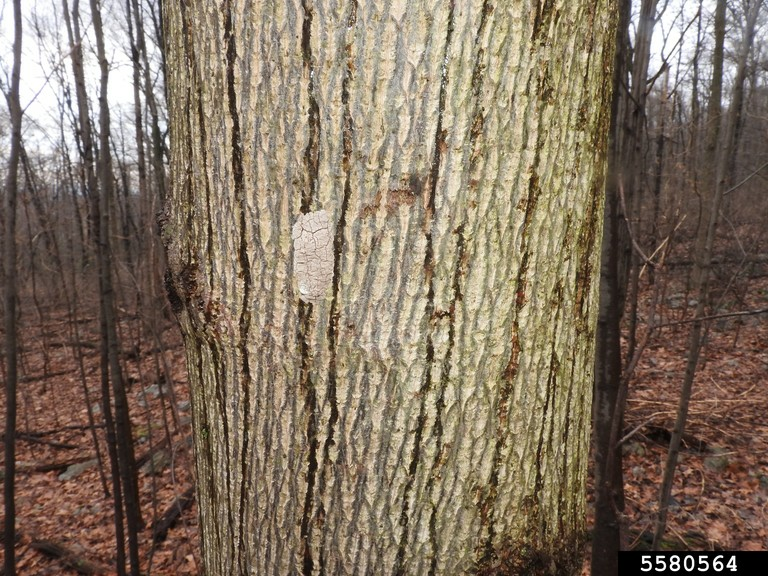egg masses: (290, 209, 335, 304)
